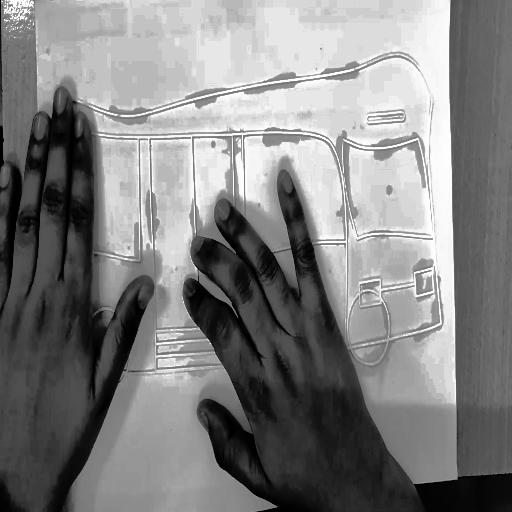bottom_right: (455, 470, 463, 479)
bus: (28, 49, 469, 406)
